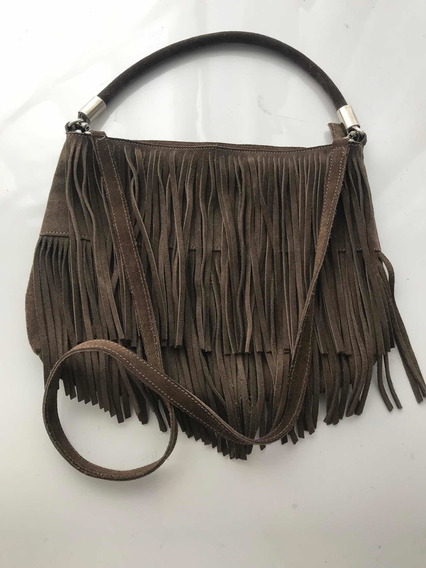cartera: (26, 31, 398, 445)
